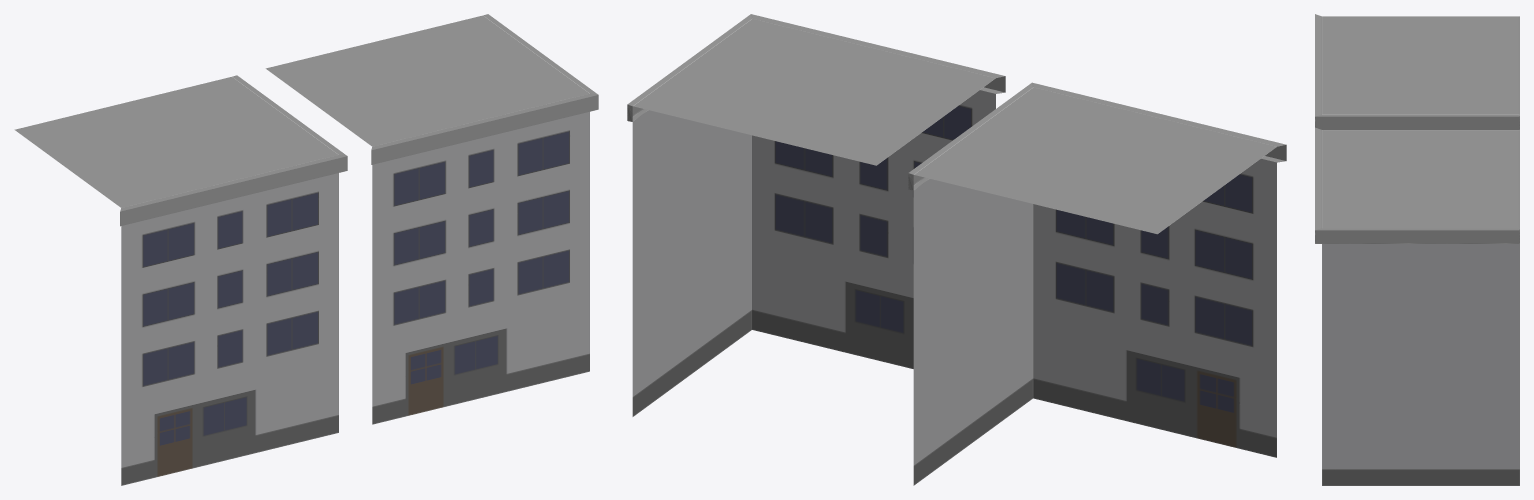
The model's file is Building5.fbx.
The picture shows the model from 3 angles, left to right: view 1: azimuth 30°, elevation 25°; view 2: azimuth 150°, elevation 25°; view 3: azimuth 270°, elevation 25°; orthographic projection. The views are drawn at different scales.
Visible parts, largest first — view 1: pCube4, pCube15; view 2: pCube15, pCube4; view 3: pCube4, pCube15.
Boxes of the visible parts, x1,y1,x2,y2 form: pCube4: [265, 14, 598, 424]; pCube15: [14, 75, 347, 485]; pCube15: [908, 82, 1286, 485]; pCube4: [627, 14, 1005, 416]; pCube4: [1315, 127, 1519, 485]; pCube15: [1315, 14, 1519, 129].
Size of the model in its own units: 18.21 by 10.12 by 7.29.
